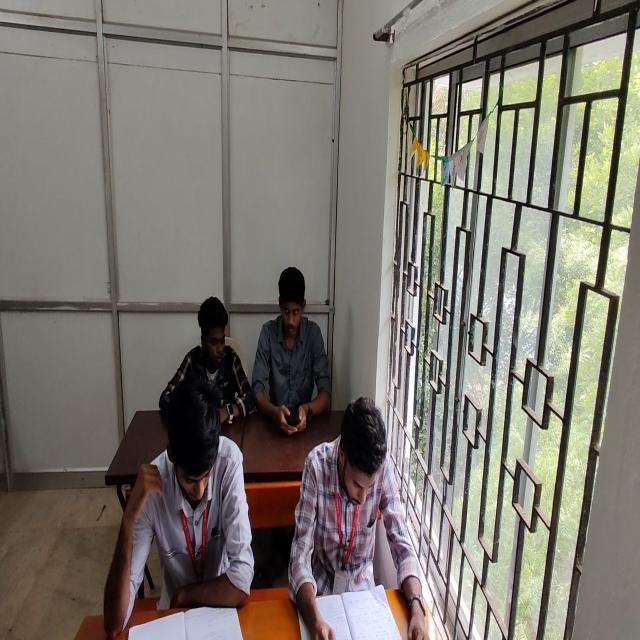reading: (105, 381, 254, 636), (285, 397, 407, 640)
using_mobile: (251, 267, 329, 432), (160, 294, 256, 428)
